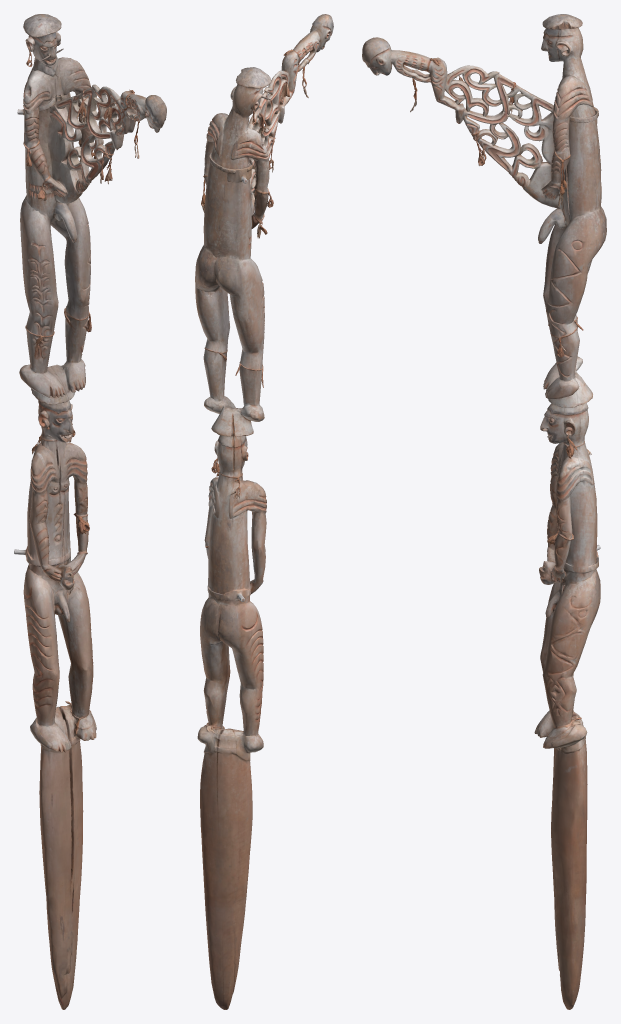
Rendered from preview.glb.
3 renders of one model, left to right at view 1: azimuth 30°, elevation 25°; view 2: azimuth 150°, elevation 25°; view 3: azimuth 270°, elevation 25°, orthographic. The views are drawn at different scales.
Parts seen in each view (by area): view 1: ADVIMG_1978_412_1254_BisPole04_12Mil__n3d; view 2: ADVIMG_1978_412_1254_BisPole04_12Mil__n3d; view 3: ADVIMG_1978_412_1254_BisPole04_12Mil__n3d.
Part boxes in pixels (x1,y1,x2,y2): ADVIMG_1978_412_1254_BisPole04_12Mil__n3d: (14, 14, 166, 1009); ADVIMG_1978_412_1254_BisPole04_12Mil__n3d: (195, 14, 333, 1009); ADVIMG_1978_412_1254_BisPole04_12Mil__n3d: (362, 14, 606, 1009).
Size of the model in its own units: 0.3608 by 4.72 by 1.07.
1 material, 1 textured.
